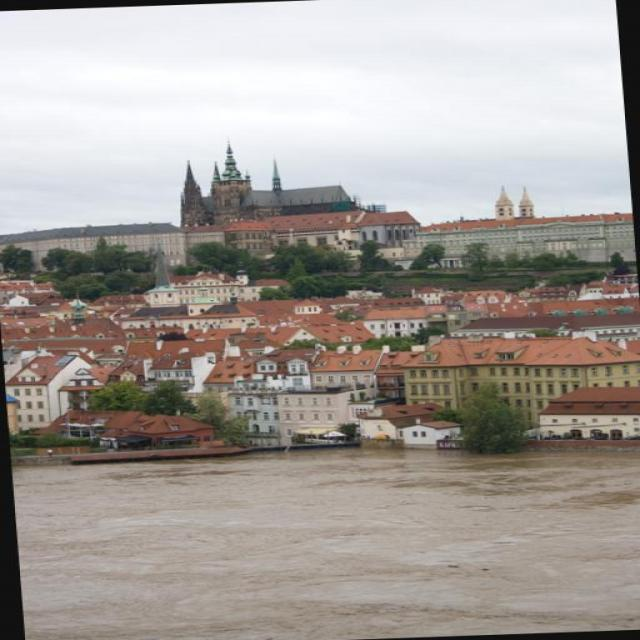flood: (10, 429, 639, 640)
